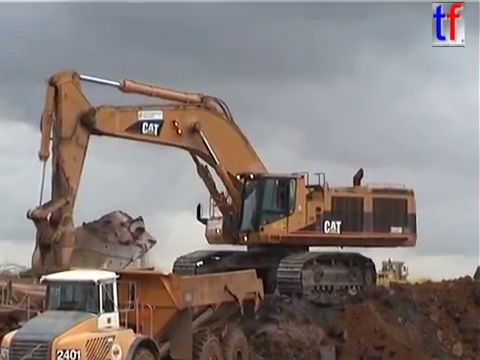excavator: (24, 67, 421, 309)
motor grader: (368, 256, 415, 291)
truck: (1, 264, 266, 360)
